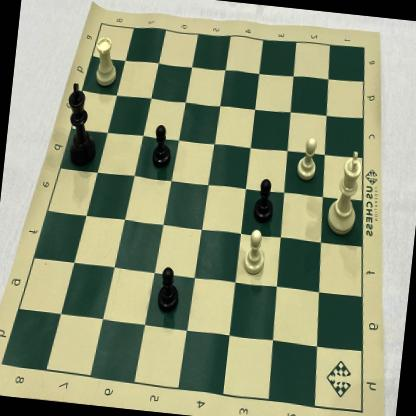black-king: (58, 78, 106, 168)
black-pawn: (147, 116, 180, 174), (250, 170, 280, 227), (153, 262, 183, 315)
white-king: (318, 144, 372, 242)
white-pawn: (238, 222, 272, 280), (291, 132, 323, 188)
white-rook: (90, 27, 125, 92)
